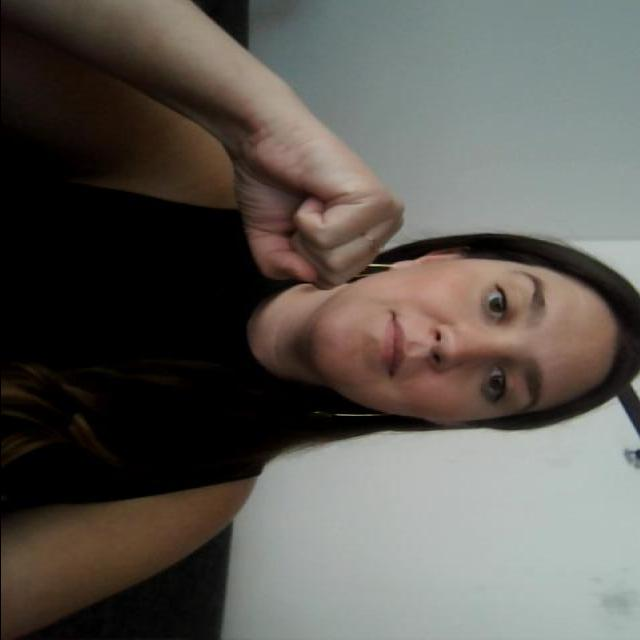Rock: (215, 102, 414, 293)
